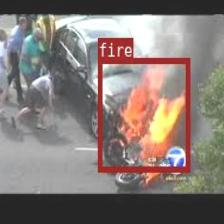fire: (97, 57, 189, 171)
